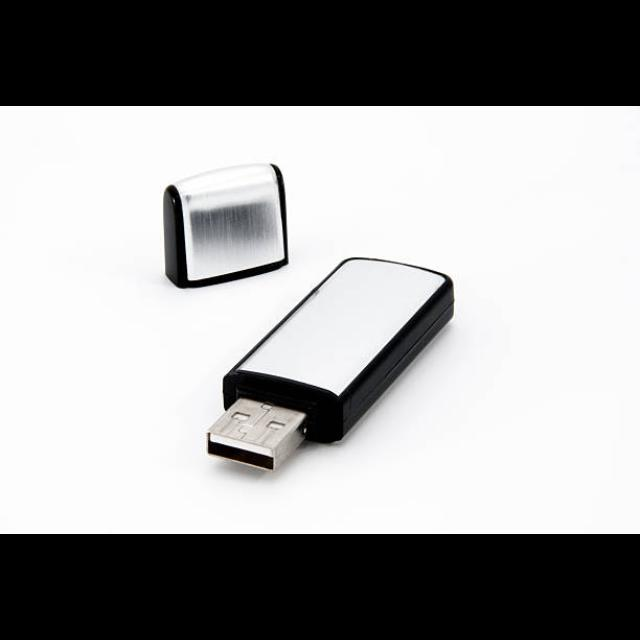USB-Flash-Drive: (206, 258, 455, 472)
